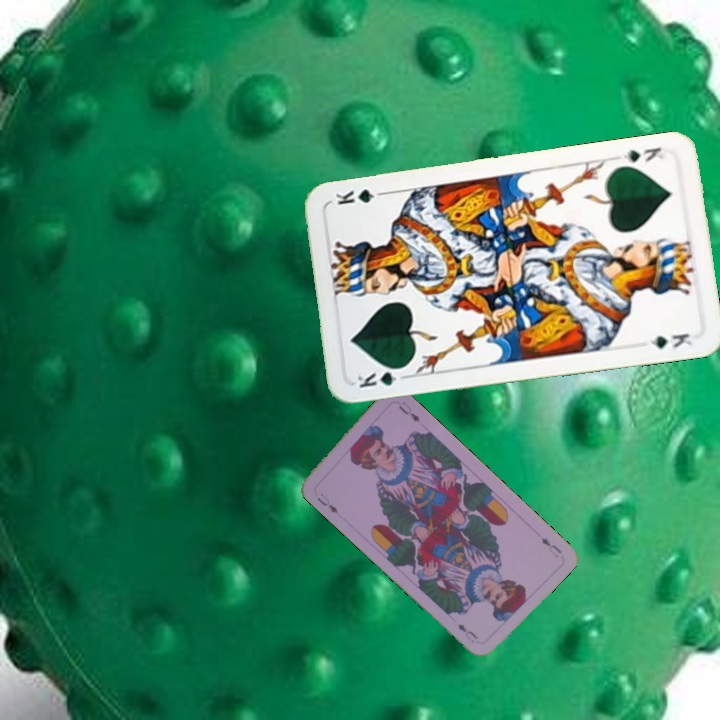EU: (313, 489, 341, 516), (537, 533, 564, 560)
GK: (353, 363, 411, 391), (619, 143, 667, 165)
